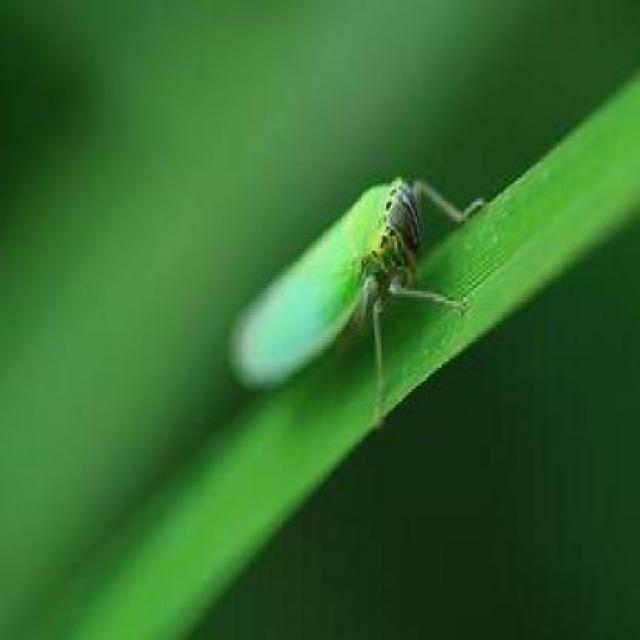green-leafhopper: (227, 175, 485, 424)
